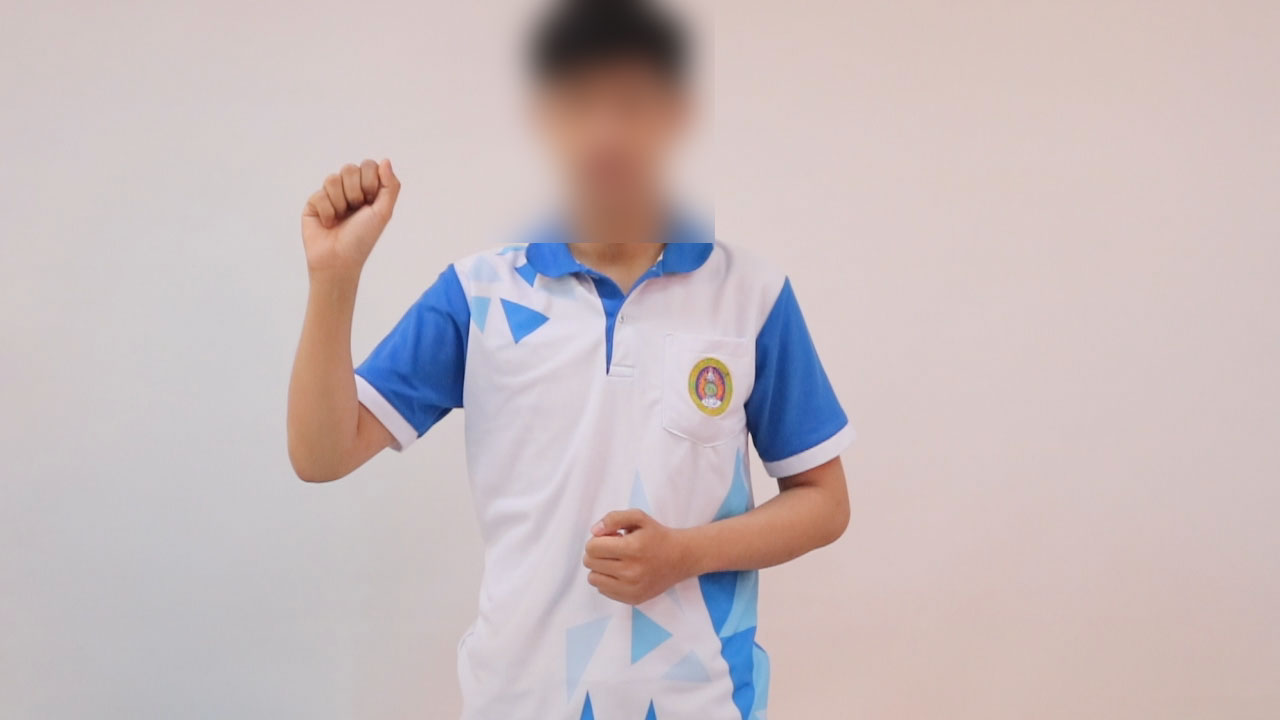sor: (281, 134, 412, 282)
